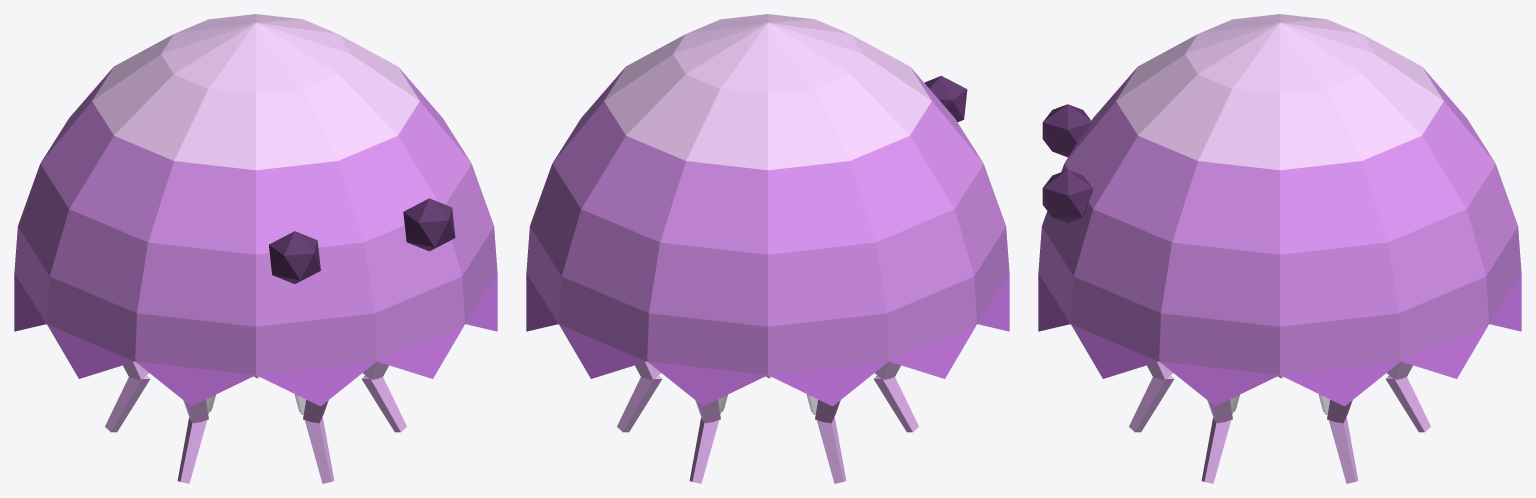
Rendered from Float.fbx.
3 renders of one model, left to right at view 1: azimuth 30°, elevation 25°; view 2: azimuth 150°, elevation 25°; view 3: azimuth 270°, elevation 25°, orthographic.
Parts seen in each view (by area): view 1: Float; view 2: Float; view 3: Float.
Boxes of the visible parts, <box> form: Float: <box>14,14,497,483</box>; Float: <box>526,14,1009,483</box>; Float: <box>1038,14,1521,483</box>.
Size of the model in its own units: 28.01 by 26.18 by 28.01.
